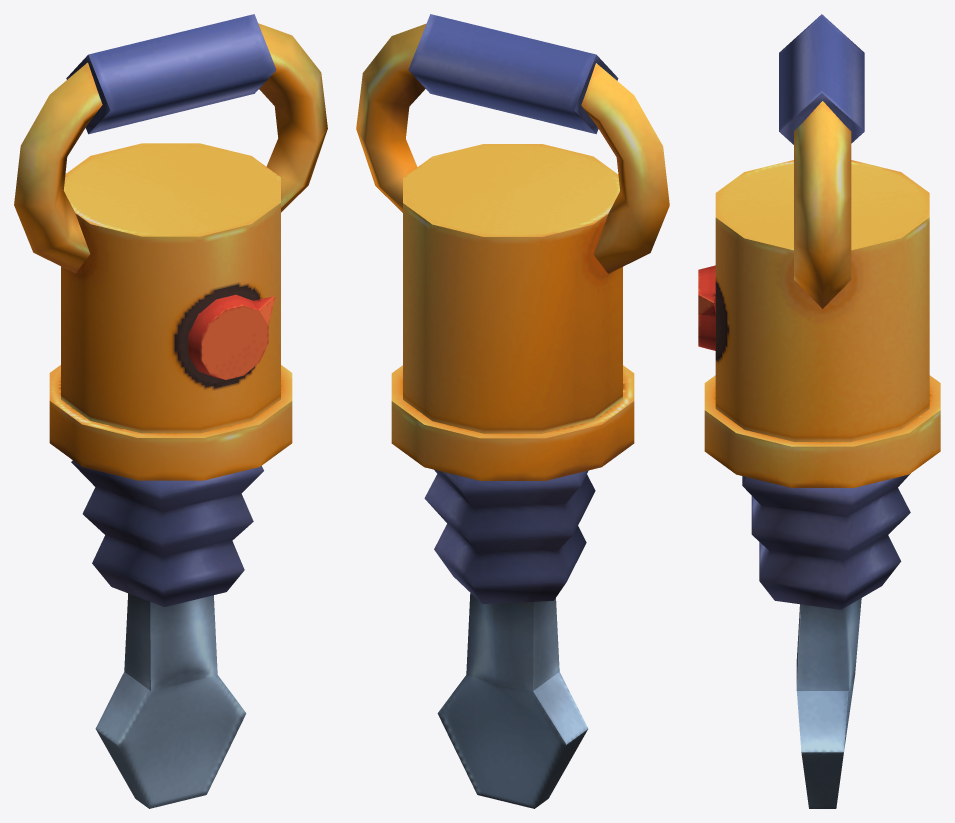
File: chipper.fbx
The picture shows the model from 3 angles, left to right: view 1: azimuth 30°, elevation 25°; view 2: azimuth 150°, elevation 25°; view 3: azimuth 270°, elevation 25°; orthographic projection. The views are drawn at different scales.
Visible parts, largest first — view 1: chipper; view 2: chipper; view 3: chipper.
Part boxes in pixels (<box>): chipper: <box>14,14,327,808</box>; chipper: <box>356,14,669,808</box>; chipper: <box>698,14,940,808</box>.
Bounding box in the file's own units: 41.64 × 96.69 × 28.66.
